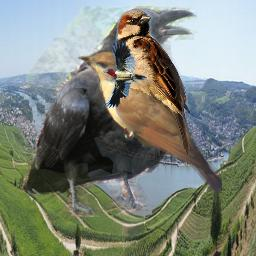Crow: (20, 6, 197, 217)
Cuckoo: (78, 51, 222, 193)
Swallow: (115, 10, 190, 155)
Woodpecker: (103, 40, 147, 108)
